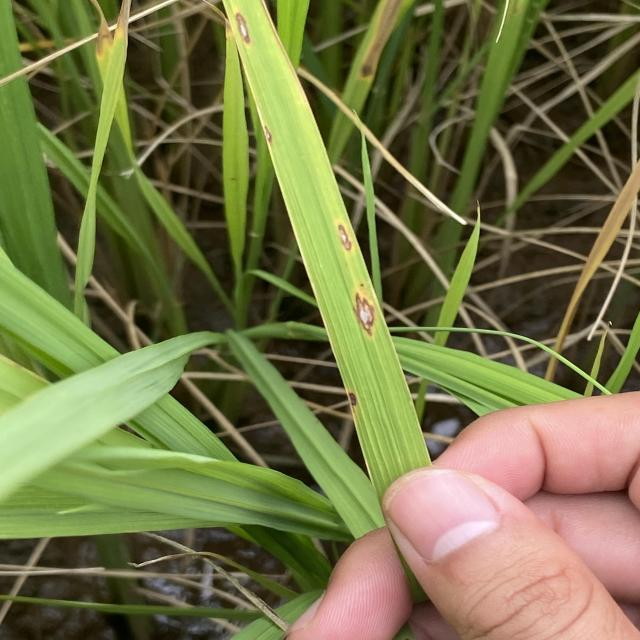Dao on: (354, 290, 375, 337), (235, 12, 250, 44), (338, 224, 353, 251)
